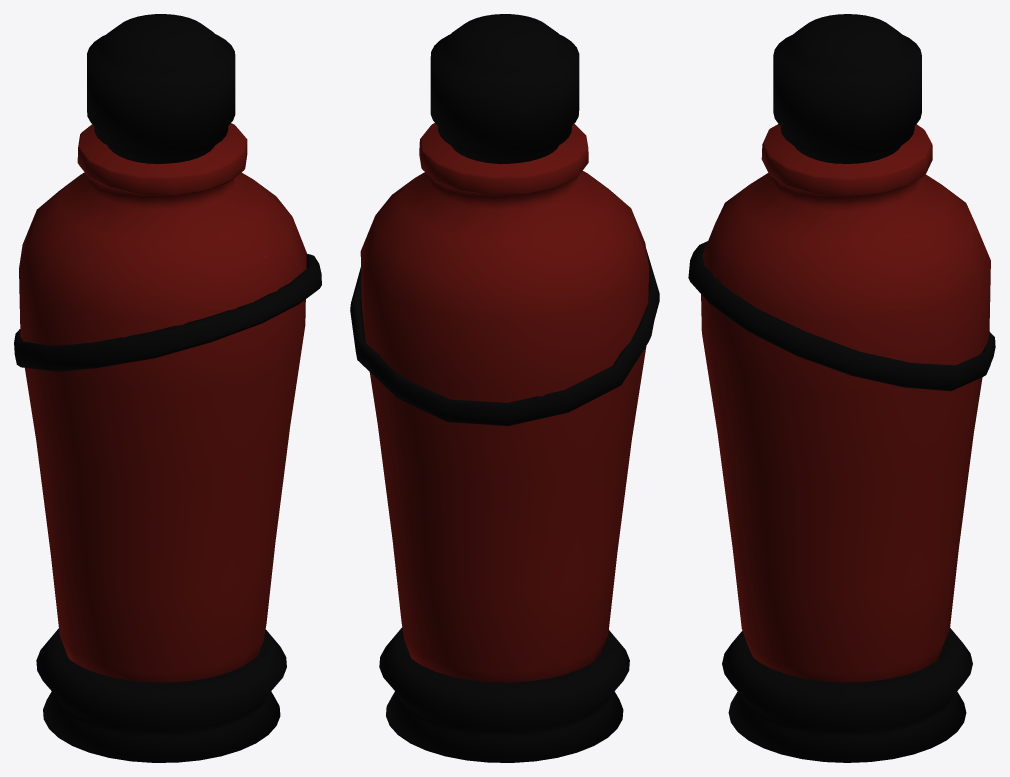
The model's file is Potion.glb.
The picture shows the model from 3 angles, left to right: view 1: azimuth 30°, elevation 25°; view 2: azimuth 150°, elevation 25°; view 3: azimuth 270°, elevation 25°; orthographic projection.
Visible parts, largest first — view 1: potion_vase, potion_bot, potion_top, Ring; view 2: potion_vase, potion_bot, potion_top, Ring; view 3: potion_vase, potion_bot, potion_top, Ring.
Boxes of the visible parts, x1=… form: potion_vase: x1=19, y1=123, x2=306, y2=682; potion_bot: x1=36, y1=628, x2=286, y2=762; potion_top: x1=87, y1=14, x2=235, y2=163; Ring: x1=14, y1=254, x2=321, y2=371; potion_vase: x1=360, y1=123, x2=648, y2=682; potion_bot: x1=379, y1=627, x2=629, y2=762; potion_top: x1=430, y1=14, x2=579, y2=163; Ring: x1=350, y1=249, x2=659, y2=425; potion_vase: x1=701, y1=124, x2=990, y2=682; potion_bot: x1=722, y1=628, x2=972, y2=762; potion_top: x1=773, y1=14, x2=921, y2=163; Ring: x1=688, y1=241, x2=995, y2=391.
Size of the model in its own units: 0.6576 by 1.59 by 0.6469.
Materials: 4 (4 with a texture image).
